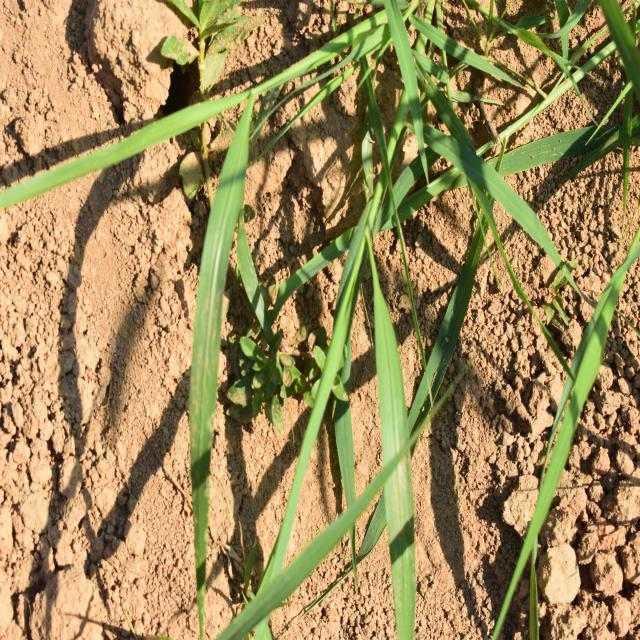green_foxtail: (155, 47, 461, 563)
